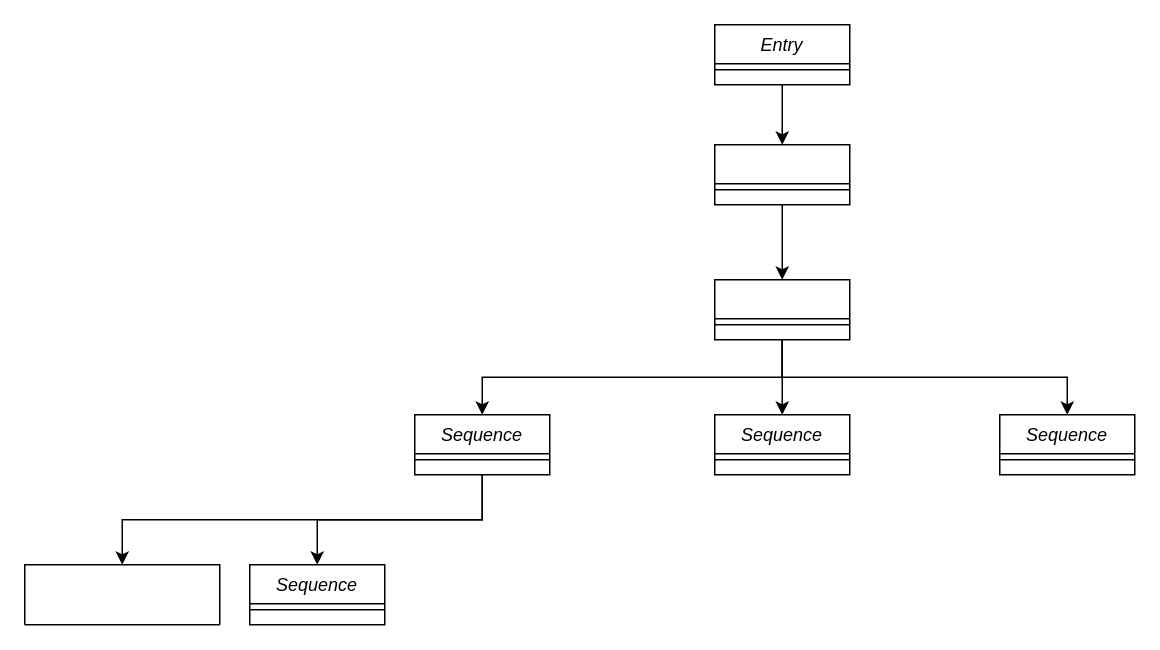
This 1160x650 diagram has some shape labels left out. The shapes that lost their labels are listed below. From the top down, each one's centre as x and y in pixels, then its label:
the point at 781,174: Repeater
the point at 781,309: Selector
the point at 121,594: IF On Capture / BlueScoreZone > 0
